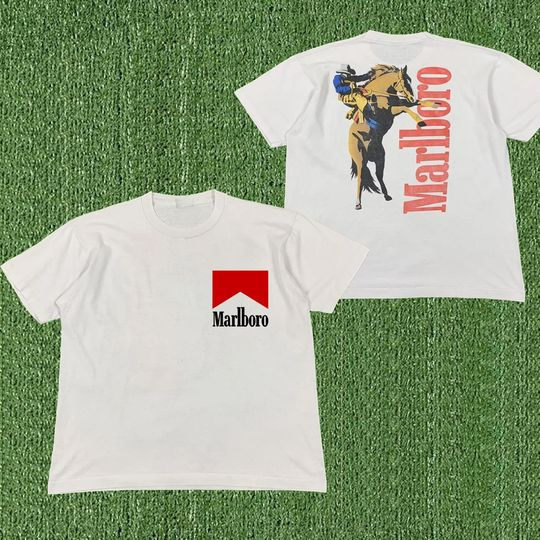design: (330, 59, 453, 215), (209, 267, 271, 329)
